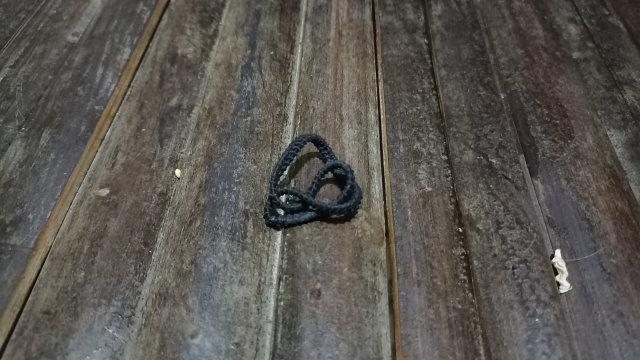karet: (263, 134, 363, 230)
